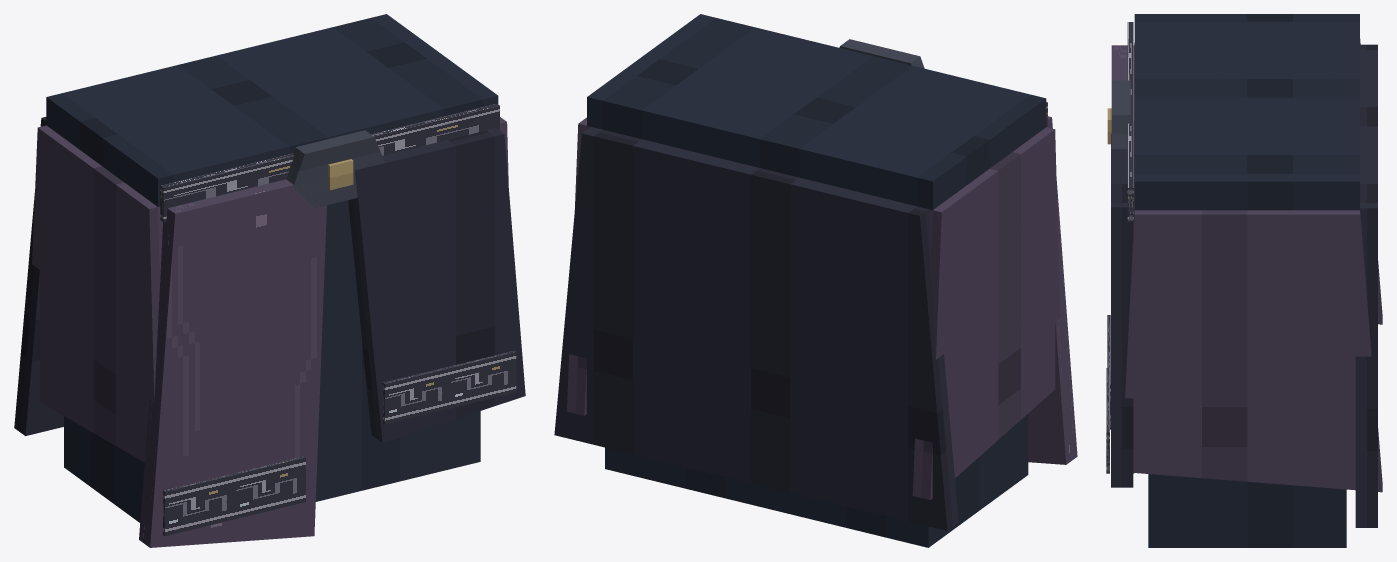
File: jindan_zixiao_leggings.obj
The picture shows the model from 3 angles, left to right: view 1: azimuth 30°, elevation 25°; view 2: azimuth 150°, elevation 25°; view 3: azimuth 270°, elevation 25°; orthographic projection.
Visible parts, largest first — view 1: zx_front_long, zx_waist, zx_front_short, zx_side_robe_-1, zx_pants_1, zx_front_hem, zx_belt_weave, zx_short_hem, zx_pants_-1, zx_buckle, zx_back_skirt, zx_hip (+1 smaller); view 2: zx_back_skirt, zx_waist, zx_side_robe_-1, zx_pants_-1, zx_front_long, zx_pants_1, zx_side_robe_1, zx_buckle; view 3: zx_side_robe_1, zx_waist, zx_pants_1, zx_back_skirt, zx_front_short, zx_buckle, zx_belt_weave, zx_front_long, zx_short_hem, zx_side_robe_-1.
Part boxes in pixels (x1,y1,x2,y2): zx_front_long: (139, 177, 327, 547); zx_waist: (46, 14, 498, 206); zx_front_short: (348, 128, 525, 442); zx_side_robe_-1: (32, 125, 162, 462); zx_pants_1: (321, 247, 480, 500); zx_front_hem: (163, 456, 305, 536); zx_belt_weave: (160, 103, 499, 222); zx_short_hem: (383, 350, 516, 424); zx_pants_-1: (64, 315, 322, 522); zx_buckle: (286, 130, 384, 208); zx_back_skirt: (14, 117, 63, 435); zx_hip: (325, 200, 352, 253); zx_back_skirt: (554, 127, 958, 530); zx_waist: (587, 14, 1046, 209); zx_side_robe_-1: (912, 127, 1060, 500); zx_pants_-1: (765, 414, 1028, 547); zx_front_long: (1028, 116, 1077, 464); zx_pants_1: (605, 447, 765, 507); zx_side_robe_1: (567, 117, 590, 415); zx_buckle: (839, 39, 924, 68); zx_side_robe_1: (1125, 209, 1382, 492); zx_waist: (1134, 14, 1359, 210); zx_pants_1: (1148, 474, 1346, 547); zx_back_skirt: (1355, 44, 1377, 527); zx_front_short: (1111, 134, 1133, 487); zx_buckle: (1111, 80, 1130, 148); zx_belt_weave: (1127, 22, 1133, 222); zx_front_long: (1111, 45, 1134, 473); zx_short_hem: (1106, 368, 1109, 473); zx_side_robe_-1: (1134, 39, 1382, 324).
Bounding box in the file's own units: 0.625 × 0.5937 × 0.3831.
